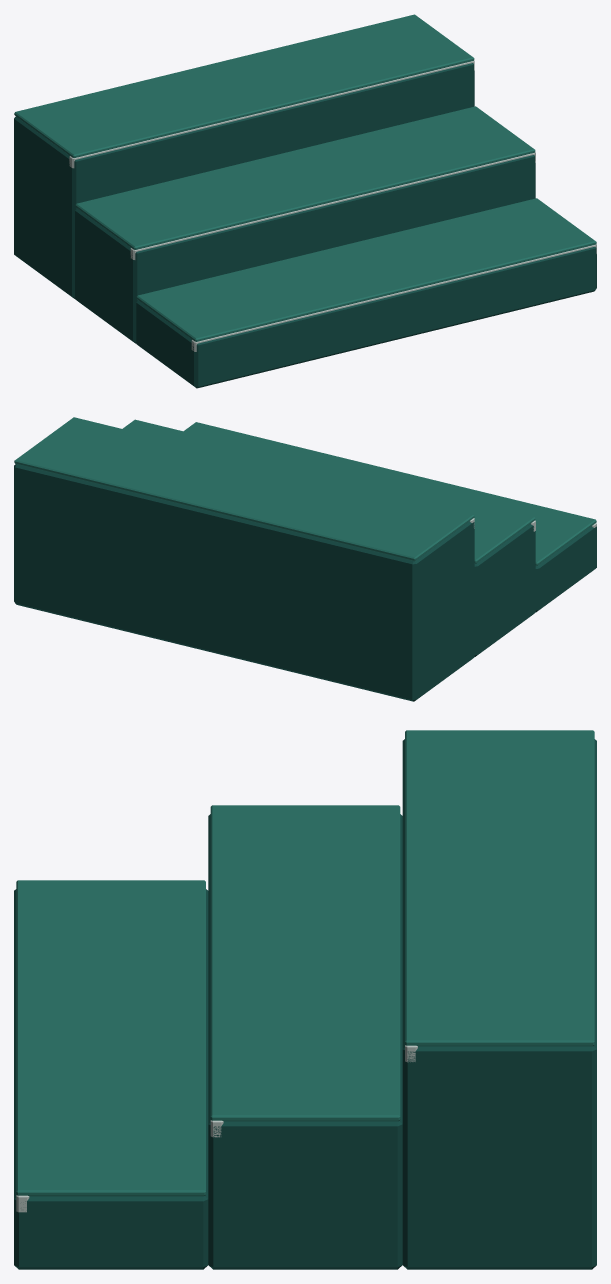
The model's file is stage_steps.glb.
The picture shows the model from 3 angles, top to bottom: view 1: azimuth 30°, elevation 25°; view 2: azimuth 150°, elevation 25°; view 3: azimuth 270°, elevation 25°; orthographic projection. The views are drawn at different scales.
Parts seen in each view (by area): view 1: Carpete do degrau, Degrau, Borda visível; view 2: Degrau, Carpete do degrau; view 3: Carpete do degrau, Degrau.
Part boxes in pixels (bbox=[...]): Carpete do degrau: bbox=[14, 14, 596, 341]; Degrau: bbox=[14, 63, 596, 388]; Borda visível: bbox=[69, 60, 596, 351]; Degrau: bbox=[14, 464, 596, 701]; Carpete do degrau: bbox=[14, 417, 596, 565]; Carpete do degrau: bbox=[16, 730, 594, 1196]; Degrau: bbox=[14, 739, 596, 1269].
Size of the model in its own units: 1.18 by 0.4055 by 0.9301.
